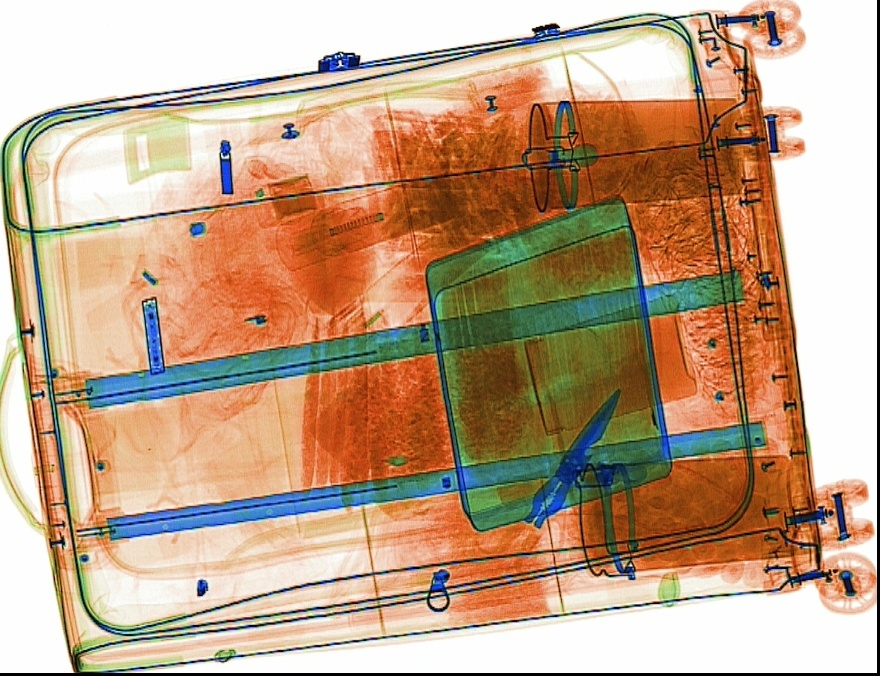scissors: (472, 385, 617, 569)
